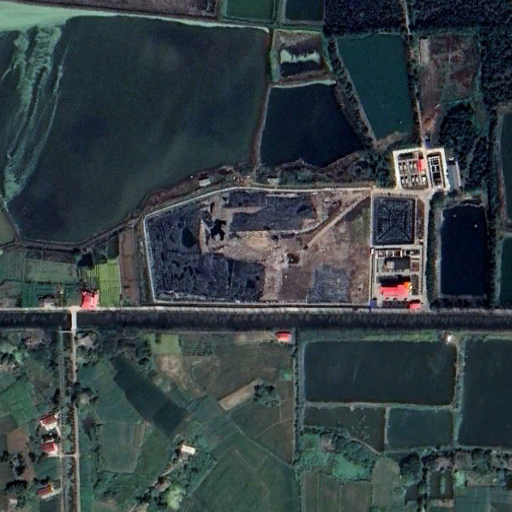lf: (144, 189, 374, 305)
